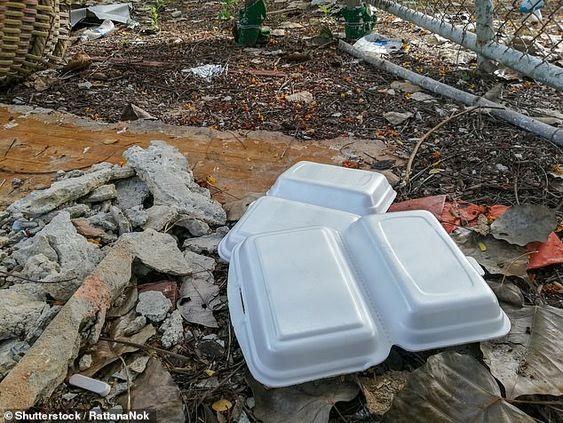PS: (226, 209, 512, 388), (217, 159, 399, 264)
